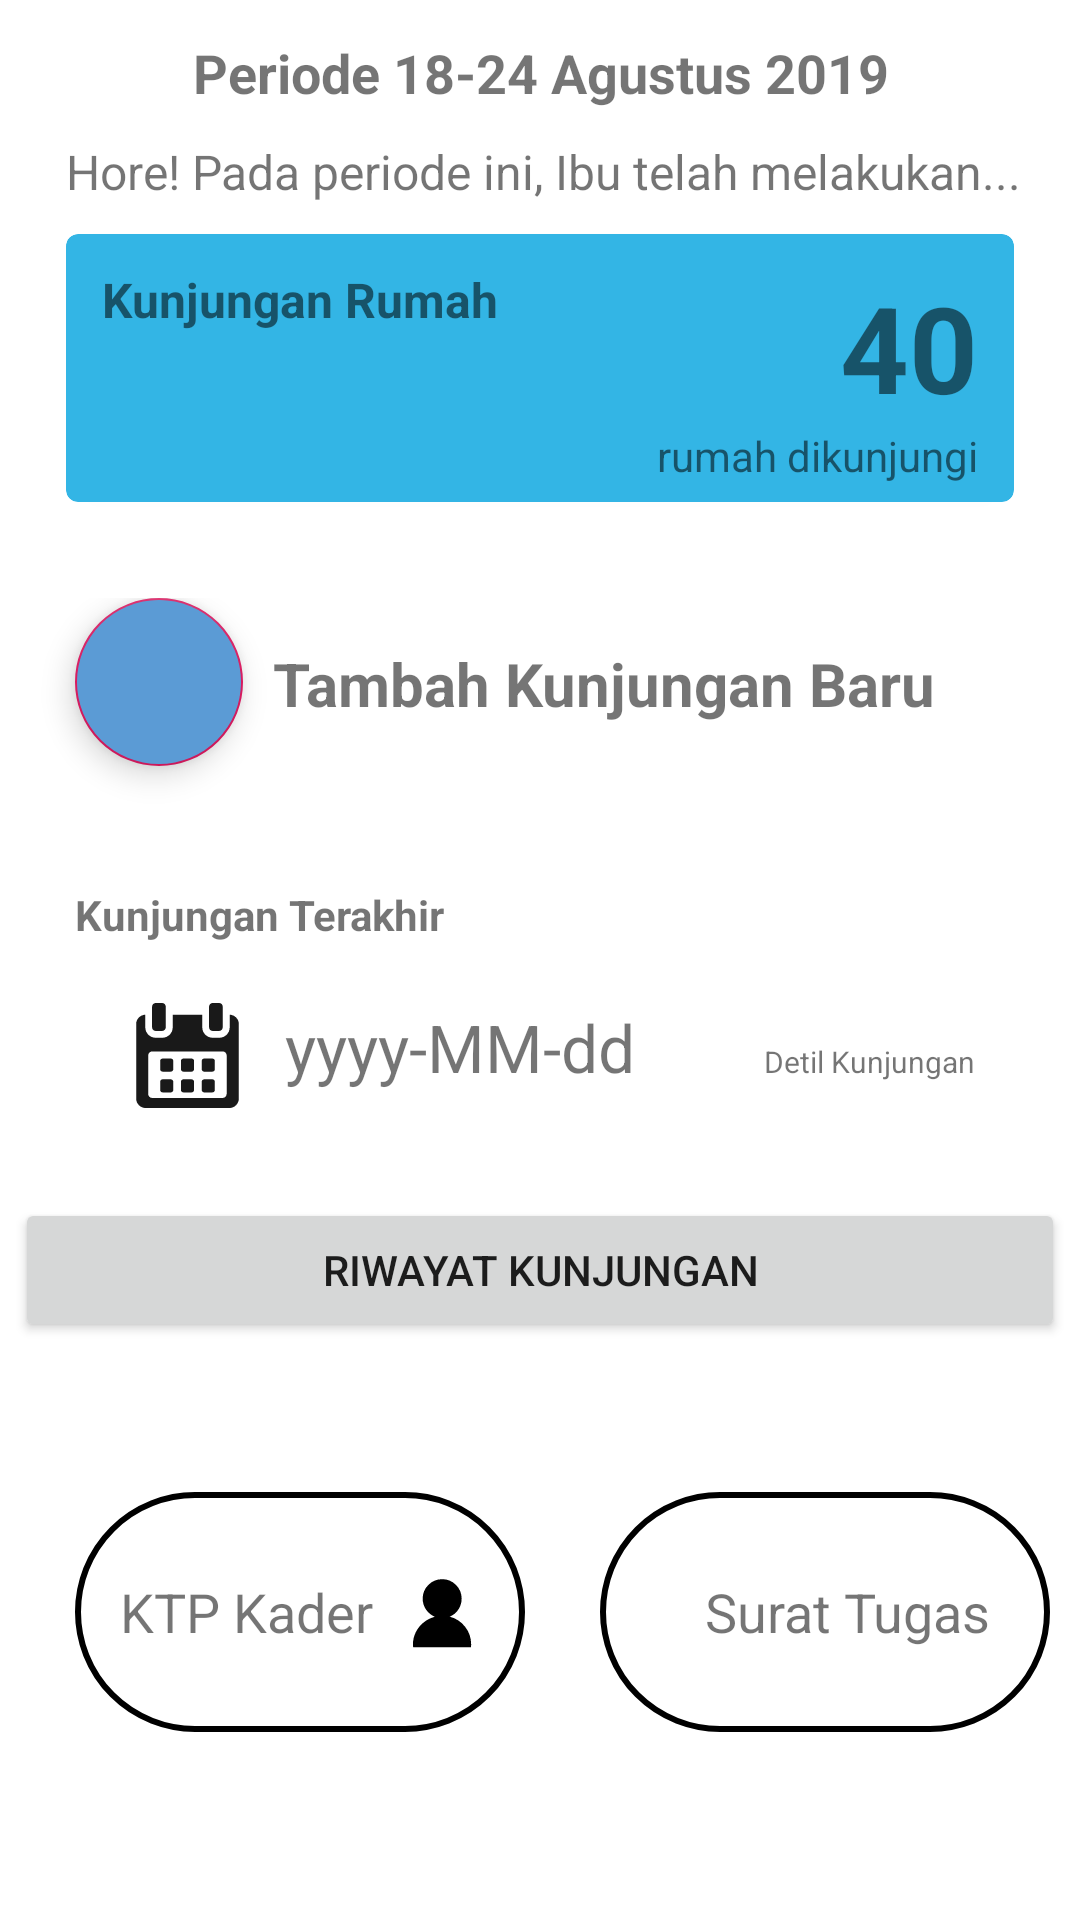

Screen size 1080 × 1920. Icon name, then its center in pixels as (x=x, y=y):
calendar: (x=187, y=1055)
person: (x=442, y=1613)
